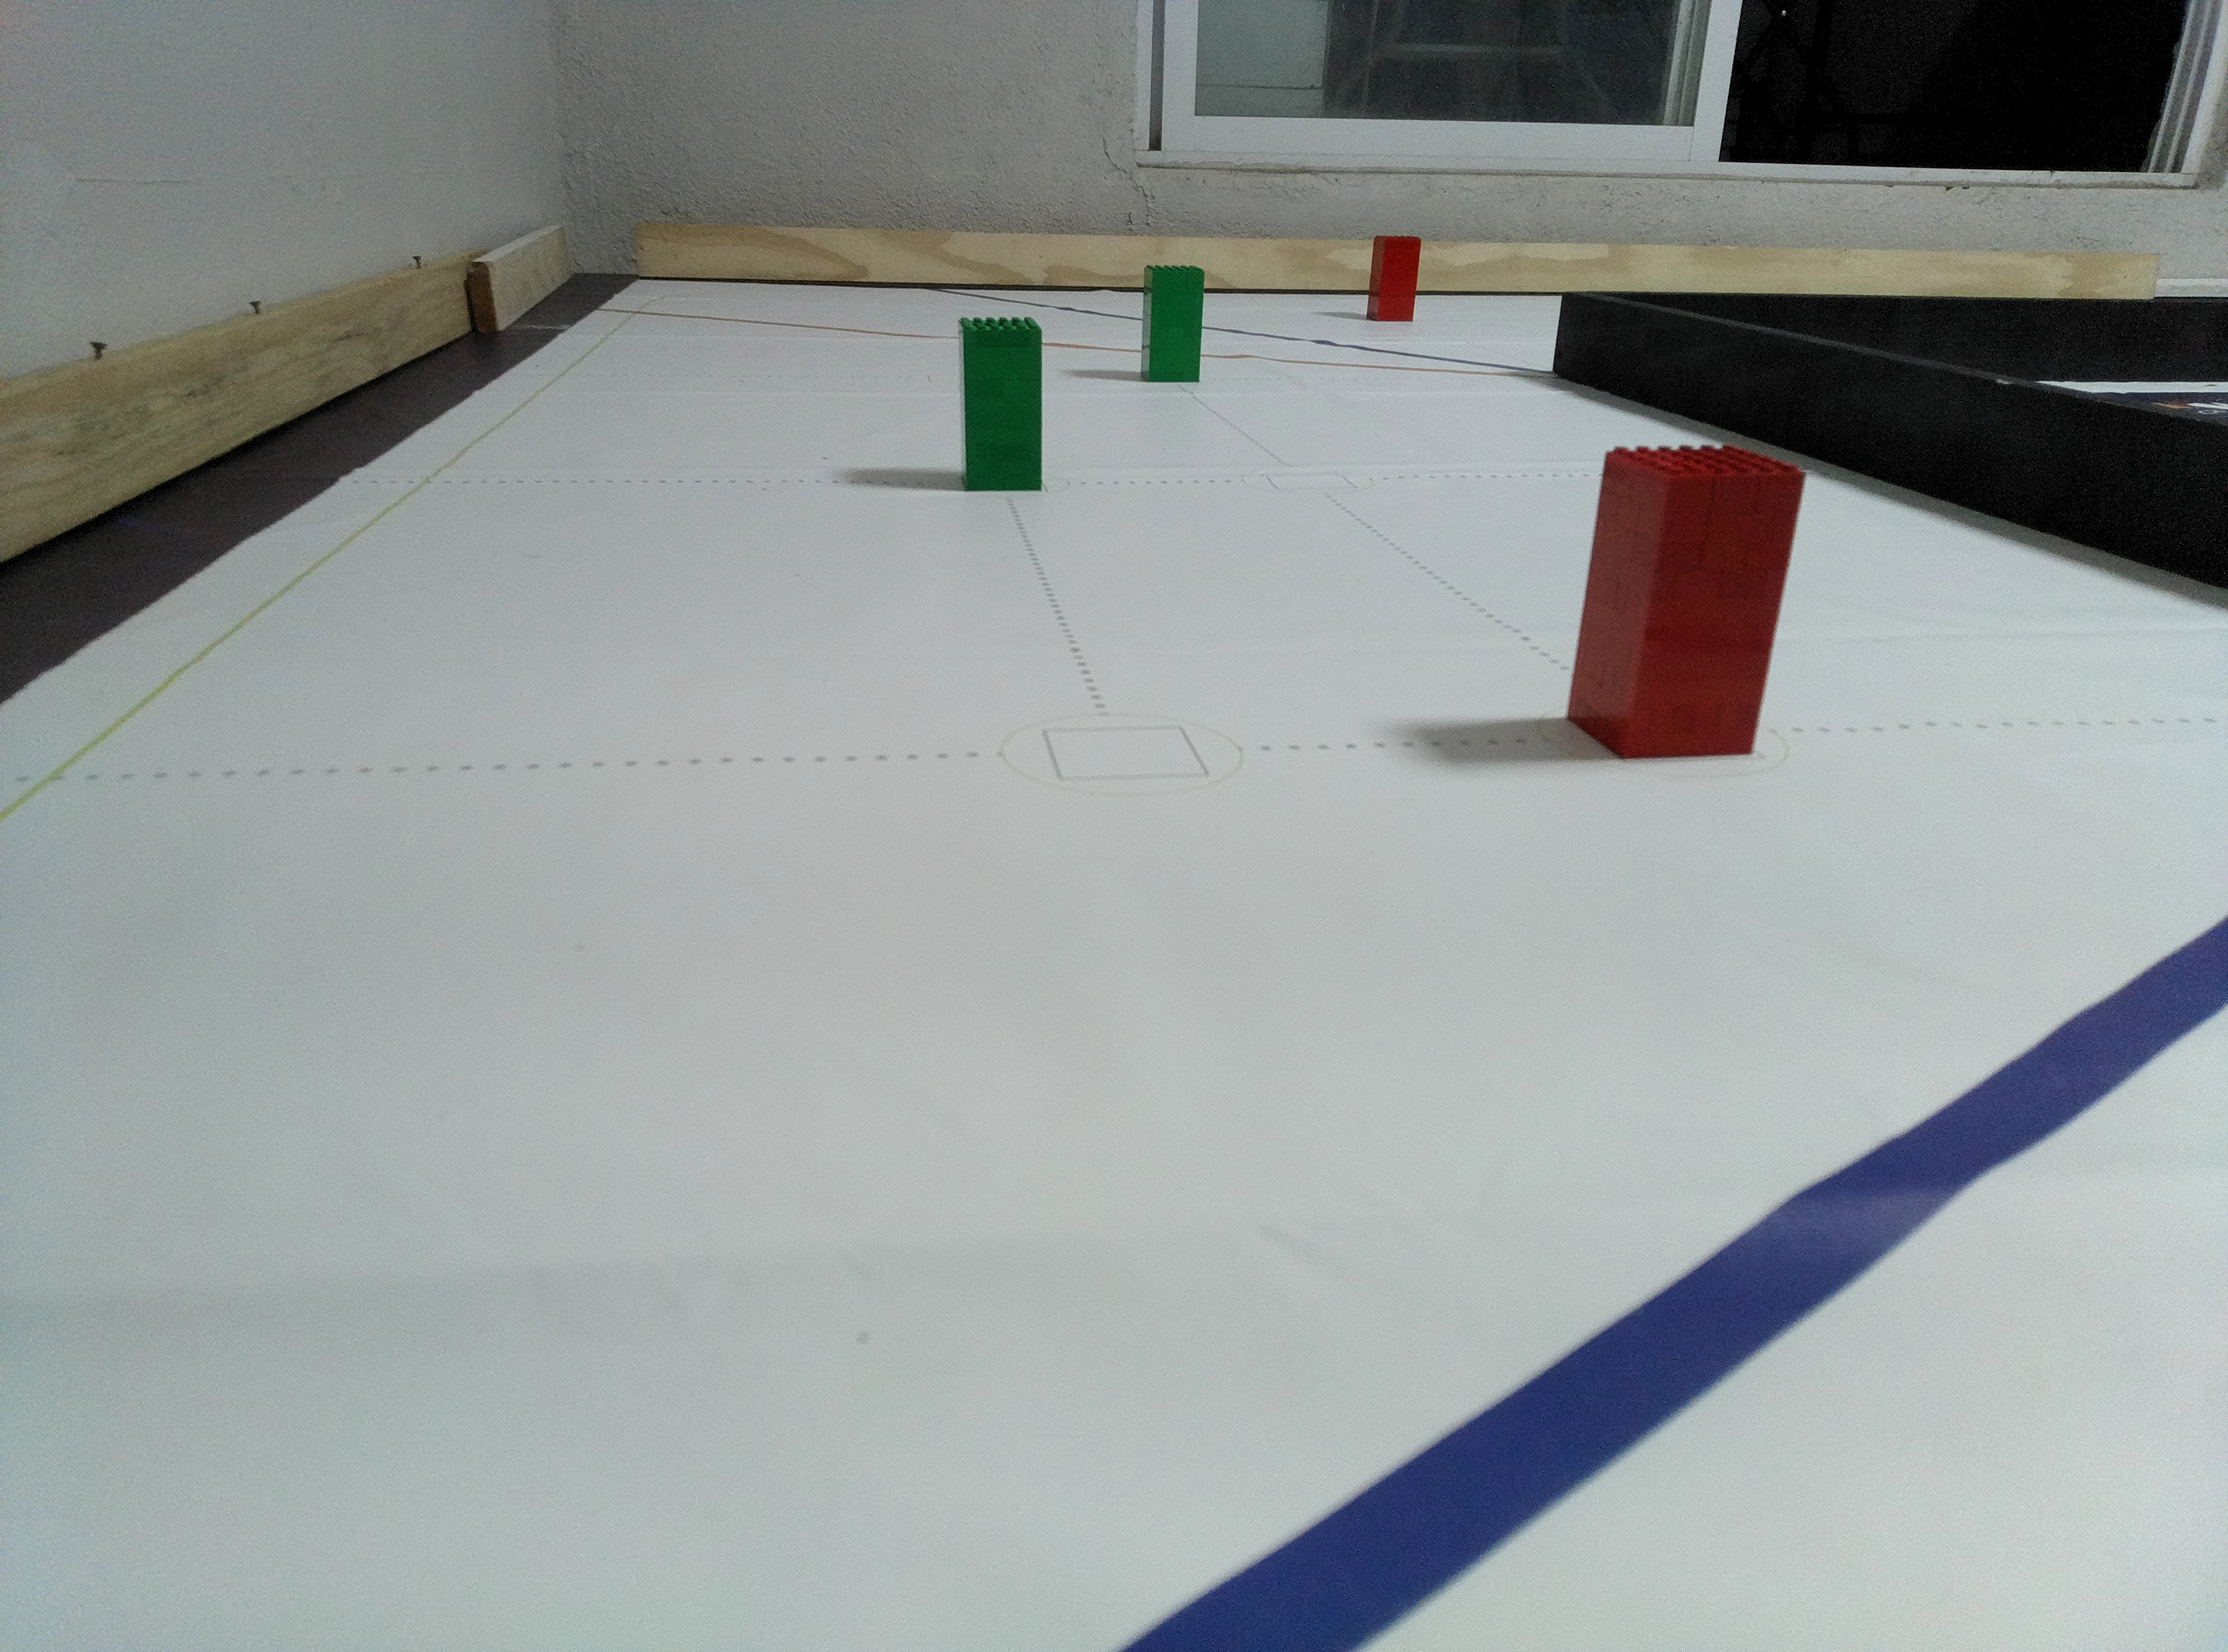greenbox: (954, 316, 1043, 493), (1140, 264, 1204, 383)
redbox: (1563, 442, 1806, 764), (1366, 234, 1421, 323)
